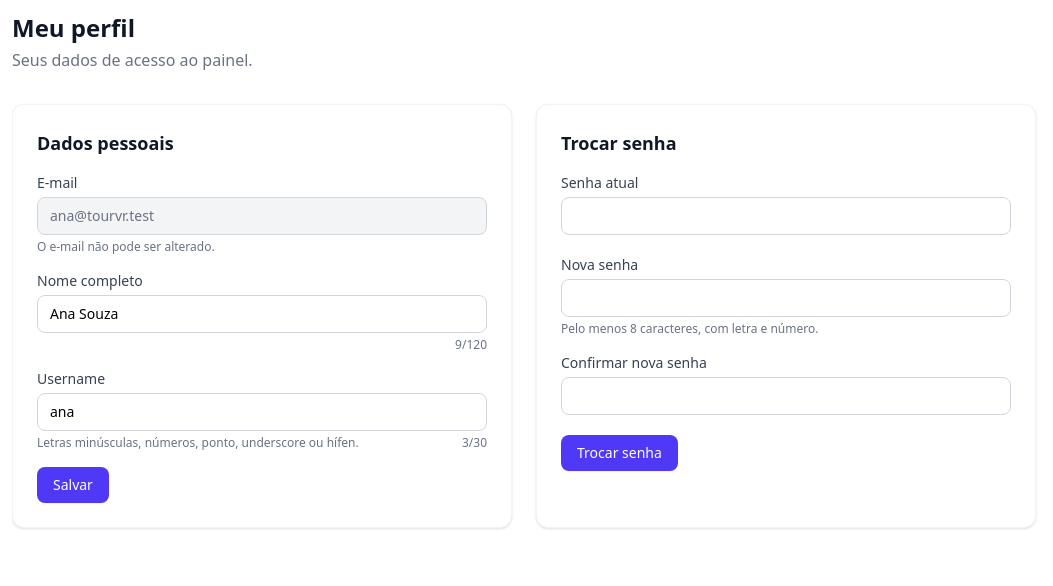
Test: ProfilePage › senha divergente ou fraca bloqueia o envio
The width and height of the screenshot is (1053, 586).
Type "curta" into the password field labelled "Nova senha" at (786, 298), box left=561, top=279, right=1011, bottom=317
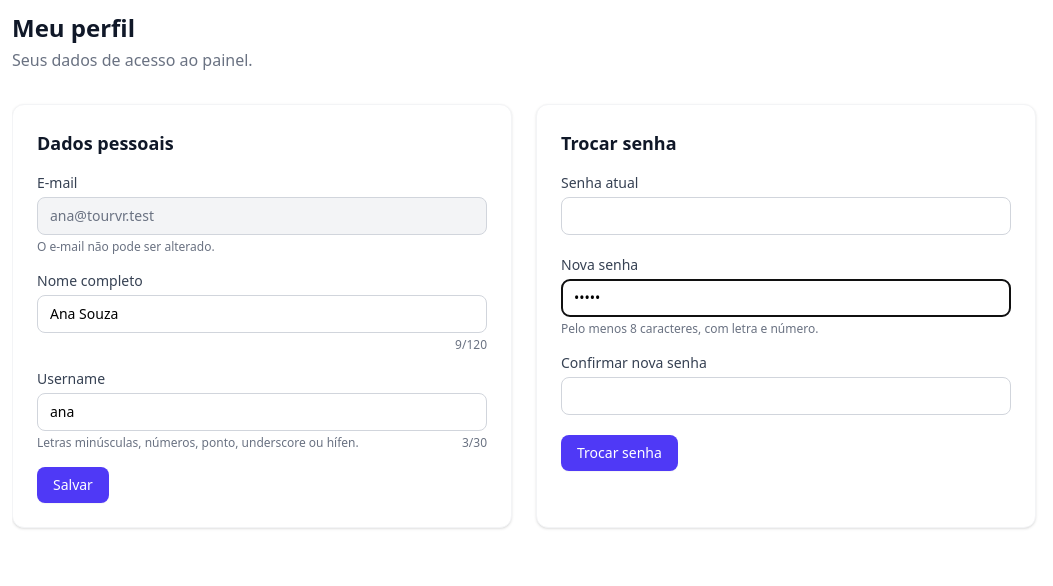
Type "outra" into the password field labelled "Confirmar nova senha" at (786, 396), box left=561, top=377, right=1011, bottom=415
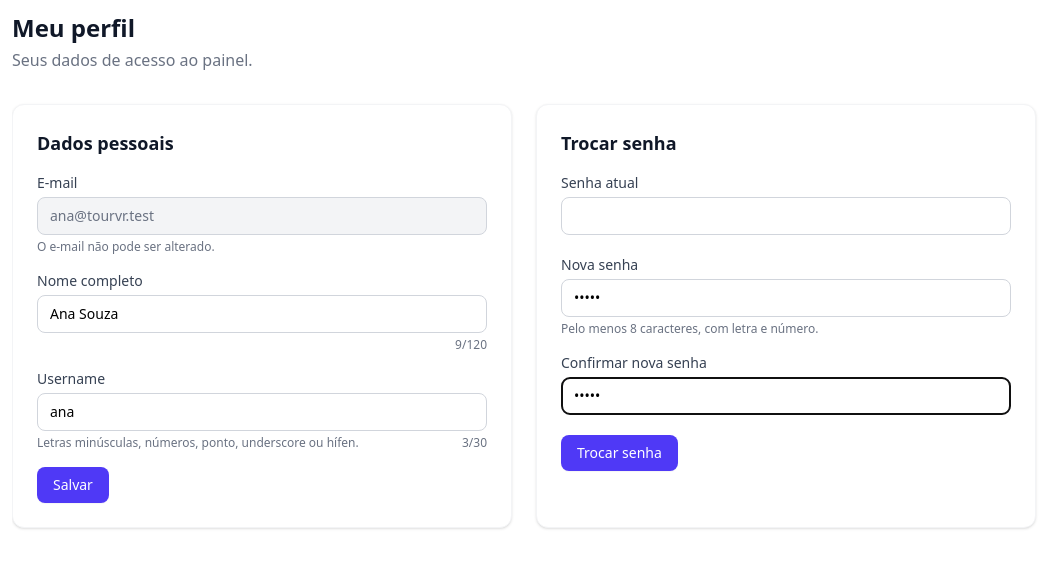
Click the button "Trocar senha" at (619, 453), box left=561, top=435, right=678, bottom=471
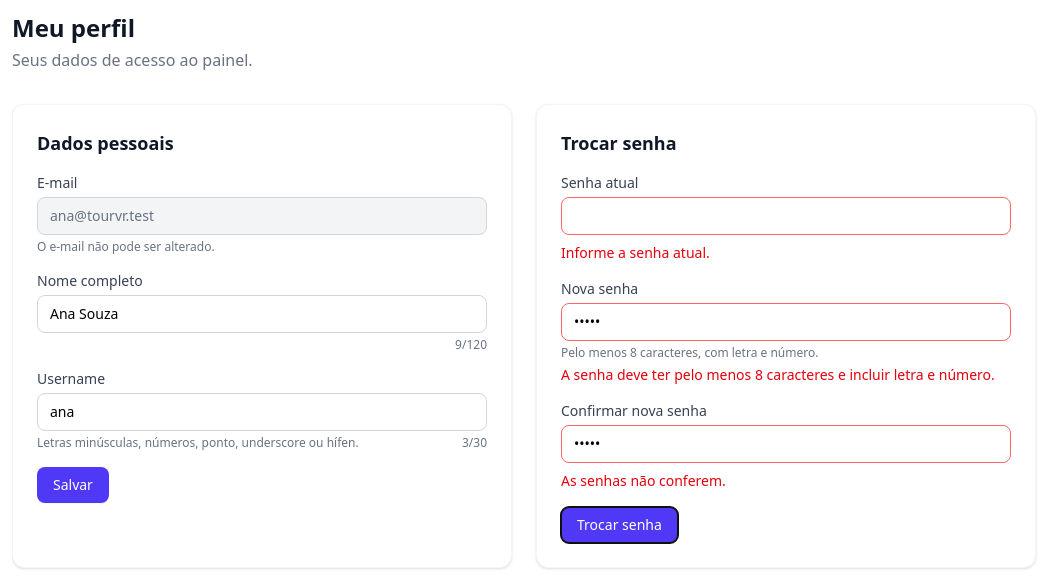
Result: the text "Informe a senha atual." is shown at left=561, top=243, right=710, bottom=262
Result: the text "A senha deve ter pelo menos 8 caracteres e incluir letra e número." is shown at left=561, top=365, right=1011, bottom=385
Result: the text "As senhas não conferem." is shown at left=561, top=471, right=726, bottom=490
